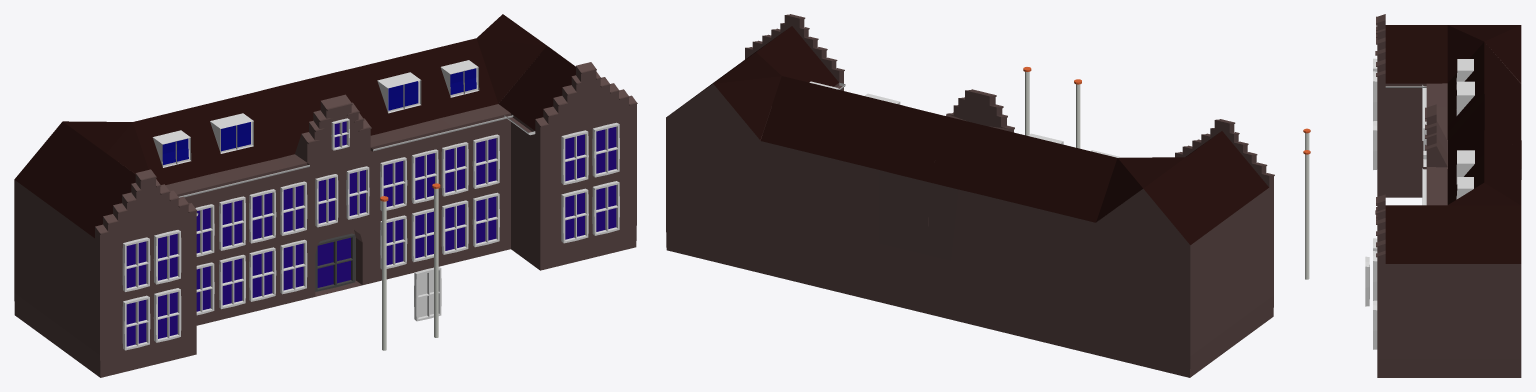
File: GemeenteHuisAppingedam.fbx
The picture shows the model from 3 angles, left to right: view 1: azimuth 30°, elevation 25°; view 2: azimuth 150°, elevation 25°; view 3: azimuth 270°, elevation 25°; orthographic projection. The views are drawn at different scales.
Parts seen in each view (by area): view 1: Cube, Windows, Plane, Cylinder, Cylinder.001; view 2: Cube; view 3: Cube, Windows, Cylinder.001, Plane.
Part boxes in pixels (bbox=[...]): Cube: bbox=[14, 14, 637, 377]; Windows: bbox=[122, 118, 619, 350]; Plane: bbox=[414, 267, 441, 321]; Cylinder: bbox=[380, 196, 388, 350]; Cylinder.001: bbox=[432, 183, 440, 337]; Cube: bbox=[666, 14, 1274, 377]; Cube: bbox=[1375, 14, 1521, 377]; Windows: bbox=[1373, 58, 1426, 349]; Cylinder.001: bbox=[1303, 150, 1310, 279]; Plane: bbox=[1365, 256, 1369, 306].
Bounding box in the file's own units: 4985 × 1825 × 2089.
